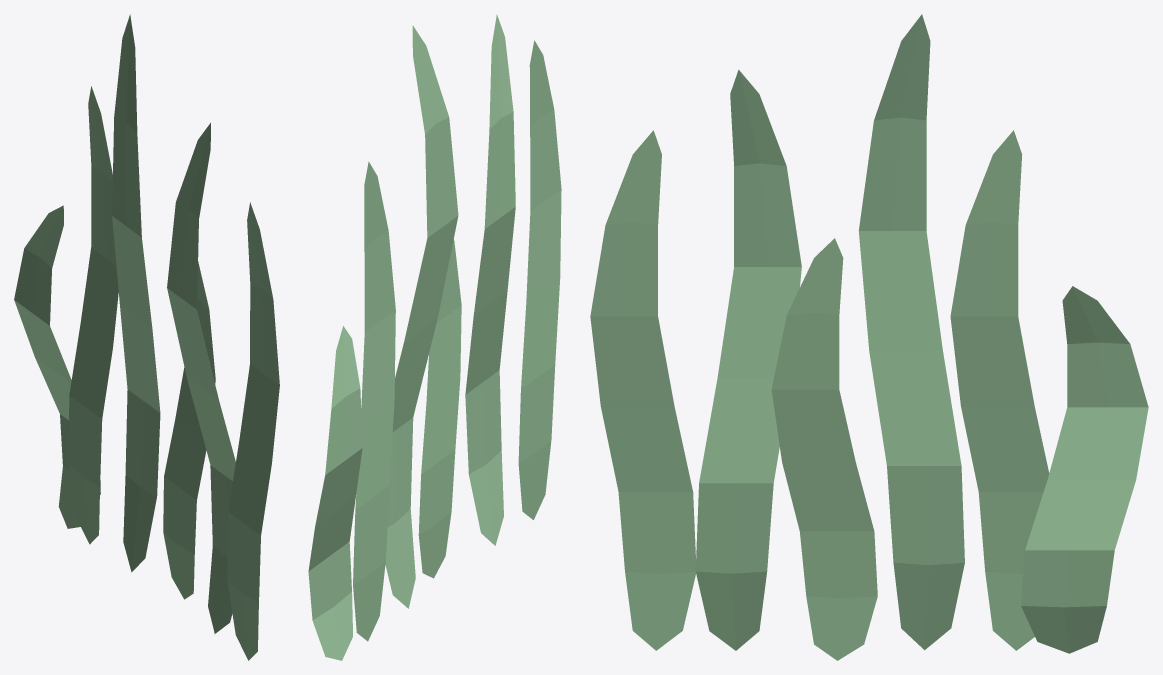
Rendered from grama.fbx.
3 renders of one model, left to right at view 1: azimuth 30°, elevation 25°; view 2: azimuth 150°, elevation 25°; view 3: azimuth 270°, elevation 25°, orthographic. The views are drawn at different scales.
Visible parts, largest first — view 1: Plane.002; view 2: Plane.002; view 3: Plane.002.
Boxes of the visible parts, box(x1,y1,x2,y2) form: Plane.002: box(14, 14, 279, 660); Plane.002: box(308, 14, 561, 660); Plane.002: box(590, 14, 1148, 660).
Size of the model in its own units: 13.79 by 208 by 165.
